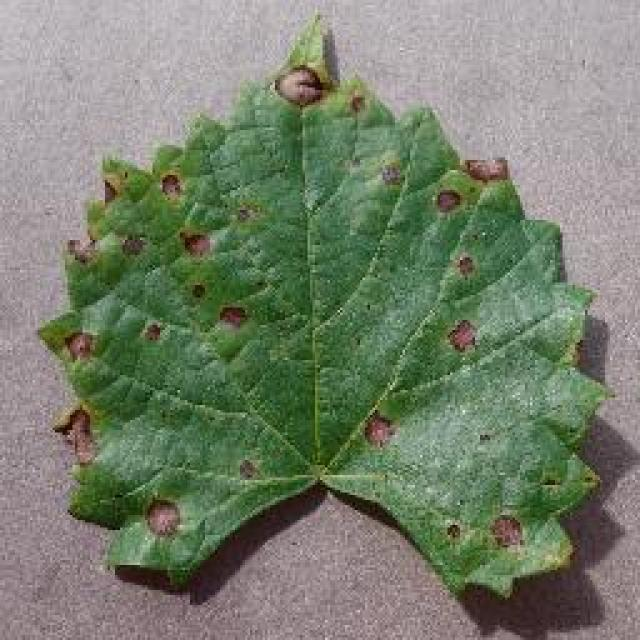Grape___Black_rot: (34, 10, 624, 605)
